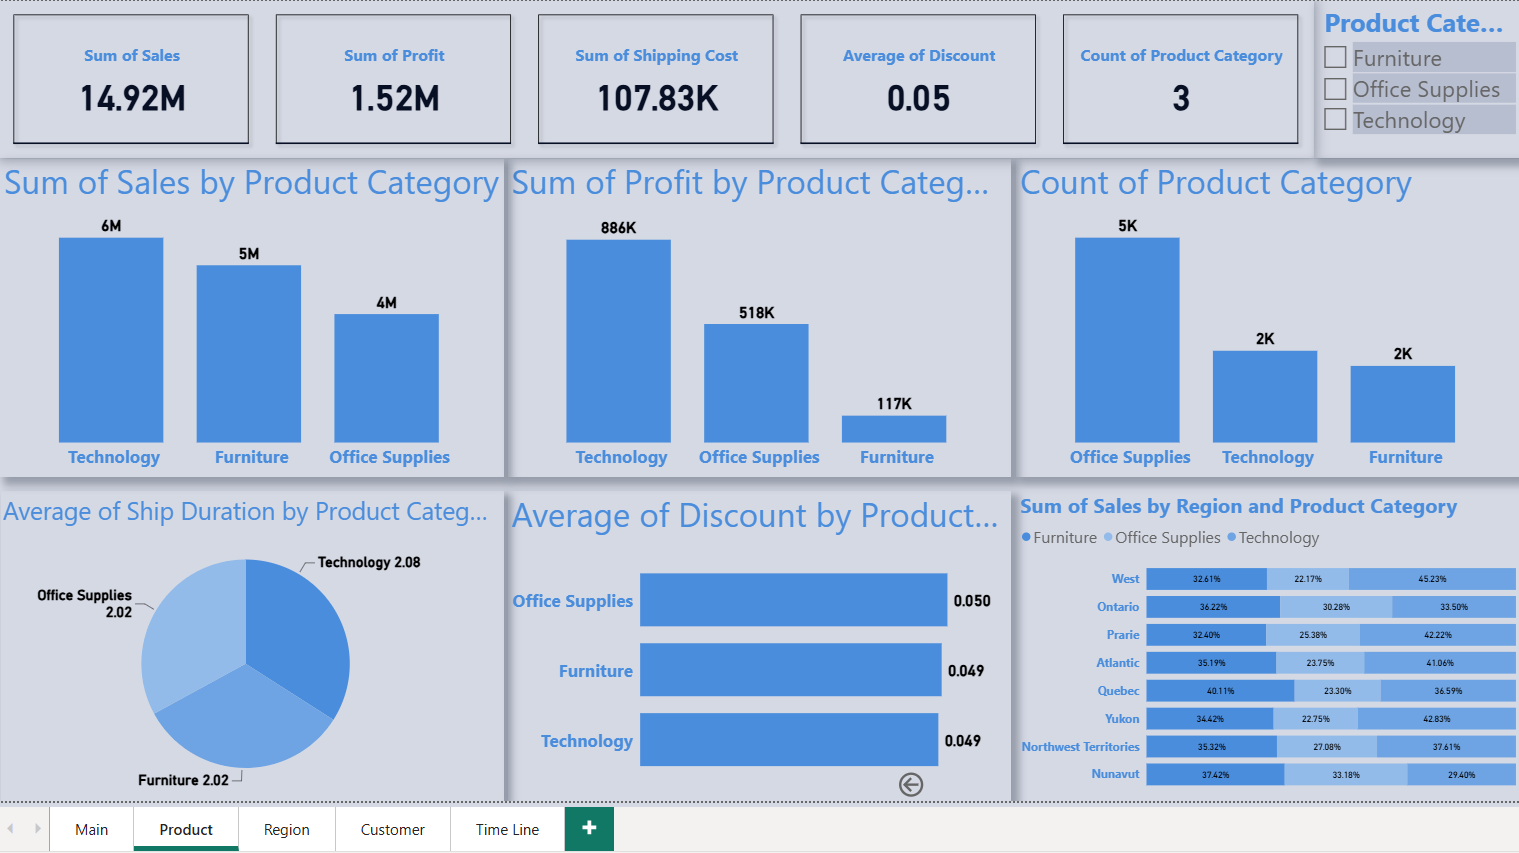

What the dashboard file says about the page in this screenshot:
{"tool":"powerbi","page":{"name":"product","canvas":[1900,1000],"ordinal":1},"visuals":[{"type":"actionButton","box":[1119.3,959.6,100,40.4],"z":0},{"type":"cardVisual","fields":{"Data":["Sum(Final Data.Sales)","Sum(Final Data.Profit)","Sum(Final Data.Shipping Cost)","Avg(Final Data.Discount)","Count(Final Data.Product Category)"]},"box":[0,0,1642.1,196.5],"z":1000},{"type":"slicer","fields":{"Values":["Final Data.Product Category"]},"box":[1642.1,0,257.9,196.5],"z":2000},{"type":"columnChart","fields":{"Y":["Sum(Final Data.Profit)"],"Category":["Final Data.Product Category"]},"box":[635.1,196.5,629.8,398.2],"z":3000},{"type":"columnChart","fields":{"Y":["Sum(Final Data.Sales)"],"Category":["Final Data.Product Category"]},"box":[0,196.5,629.8,398.2],"z":4000},{"type":"columnChart","title":"Count of Product Category","fields":{"Y":["CountNonNull(Final Data.Product Category)"],"Category":["Final Data.Product Category"]},"box":[1270.2,196.5,629.8,398.2],"z":5000},{"type":"pieChart","fields":{"Category":["Final Data.Product Category"],"Y":["Avg(Final Data.Ship Duration)"]},"box":[2,613,628,387],"z":6000},{"type":"clusteredBarChart","fields":{"Category":["Final Data.Product Category"],"Y":["Avg(Final Data.Discount)"]},"box":[635.1,612.3,629.8,387.7],"z":7000},{"type":"hundredPercentStackedBarChart","fields":{"Category":["Final Data.Region"],"Y":["Sum(Final Data.Sales)"],"Series":["Final Data.Product Category"]},"box":[1270.2,612.3,629.8,387.7],"z":8000}]}

Visuals, with their boxes on the page's 1900x1000 design canvas (x1, y1, x2, y2). These are canvas units, not pixel positions in the 1519x853 screenshot, which may show the page scaled, cropped or inside an application window:
actionButton: (x1=1119, y1=960, x2=1219, y2=1000)
cardVisual - Sum(Final Data.Sales) x Sum(Final Data.Profit): (x1=0, y1=0, x2=1642, y2=196)
slicer - Final Data.Product Category: (x1=1642, y1=0, x2=1900, y2=196)
columnChart - Sum(Final Data.Profit) x Final Data.Product Category: (x1=635, y1=196, x2=1265, y2=595)
columnChart - Sum(Final Data.Sales) x Final Data.Product Category: (x1=0, y1=196, x2=630, y2=595)
"Count of Product Category" columnChart: (x1=1270, y1=196, x2=1900, y2=595)
pieChart - Final Data.Product Category x Avg(Final Data.Ship Duration): (x1=2, y1=613, x2=630, y2=1000)
clusteredBarChart - Final Data.Product Category x Avg(Final Data.Discount): (x1=635, y1=612, x2=1265, y2=1000)
hundredPercentStackedBarChart - Final Data.Region x Sum(Final Data.Sales): (x1=1270, y1=612, x2=1900, y2=1000)
